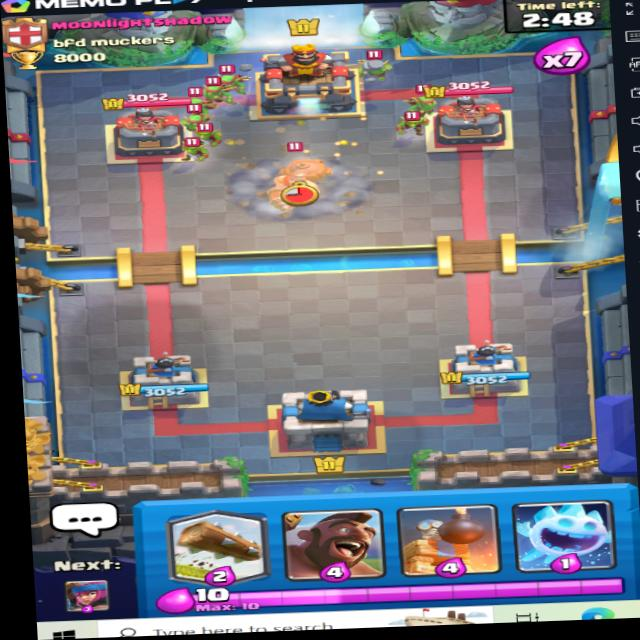goblin: (385, 107, 431, 133), (174, 135, 211, 160), (188, 122, 226, 145)
mighty-miner: (253, 141, 338, 213)
spear-goblin: (401, 83, 442, 112), (211, 64, 251, 93), (197, 79, 236, 105), (175, 108, 213, 131)
